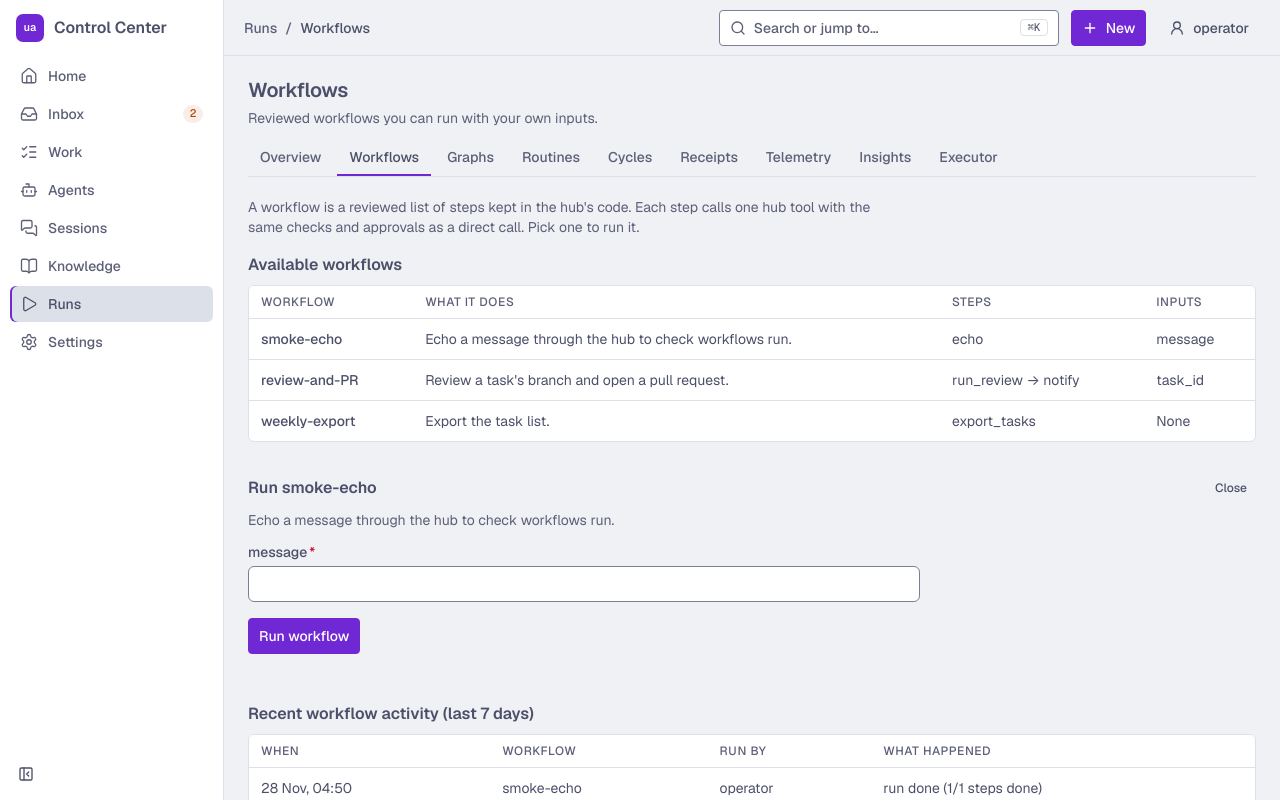
/runs/workflows › a step waiting for approval is shown as waiting, with the Inbox link, not as an error
In the field labelled "message*": (584, 584) [248,566,920,602], type "x"
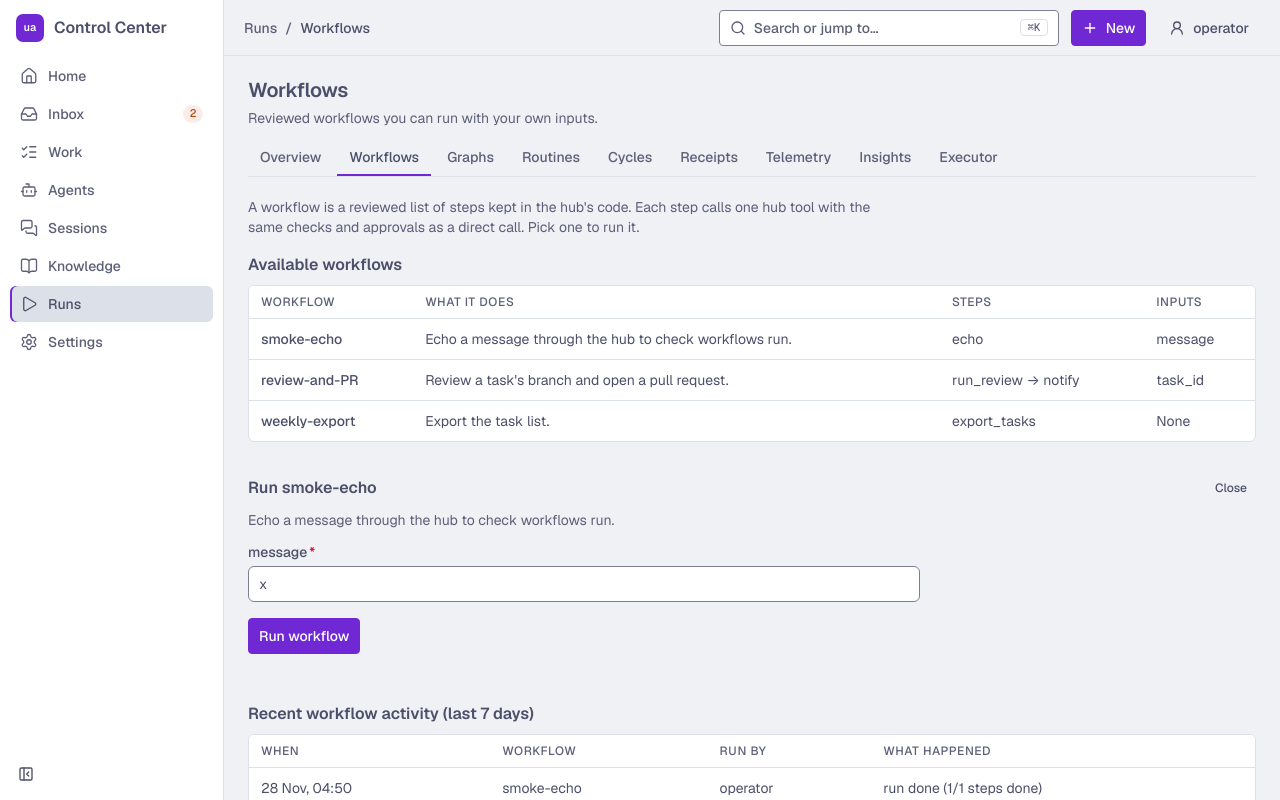
Click the button "Run workflow": (304, 636) [248,618,360,654]
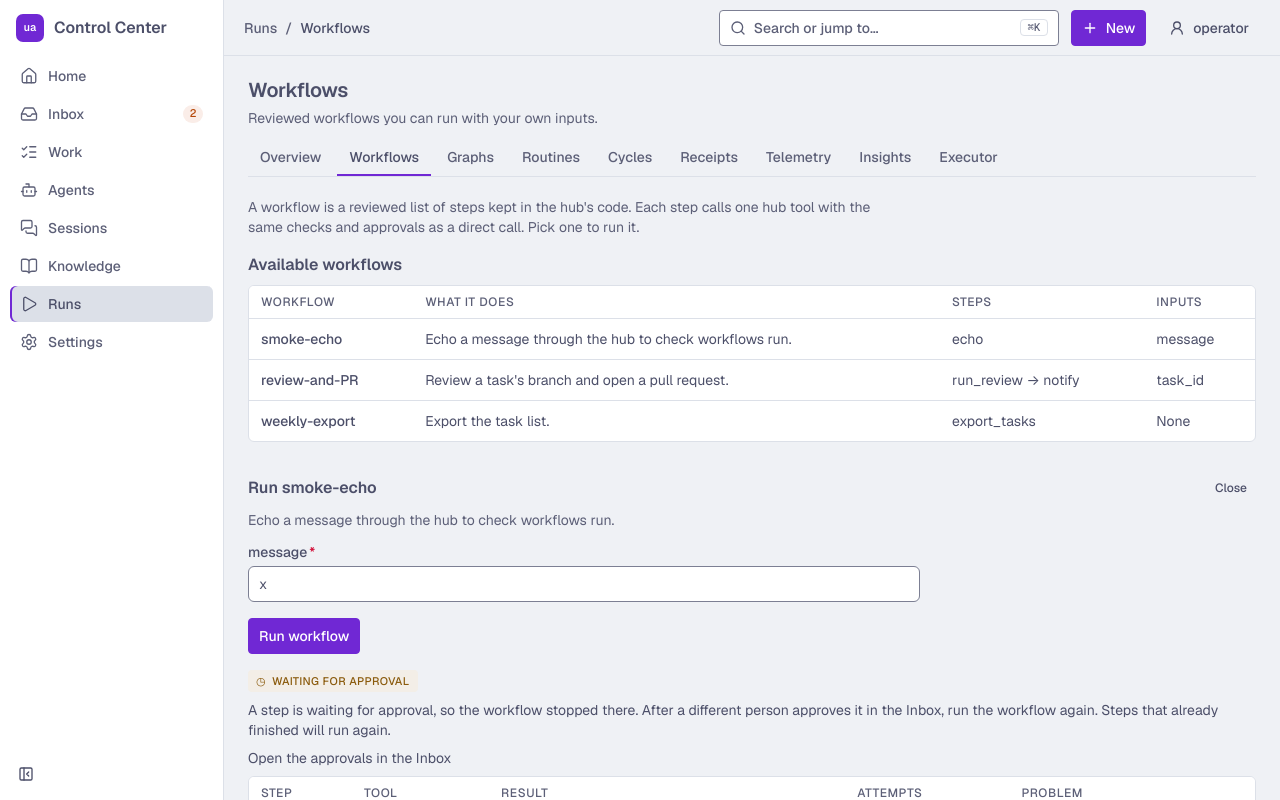
Now the text "A step is waiting for approval" is shown, box [248,701,1218,739]
